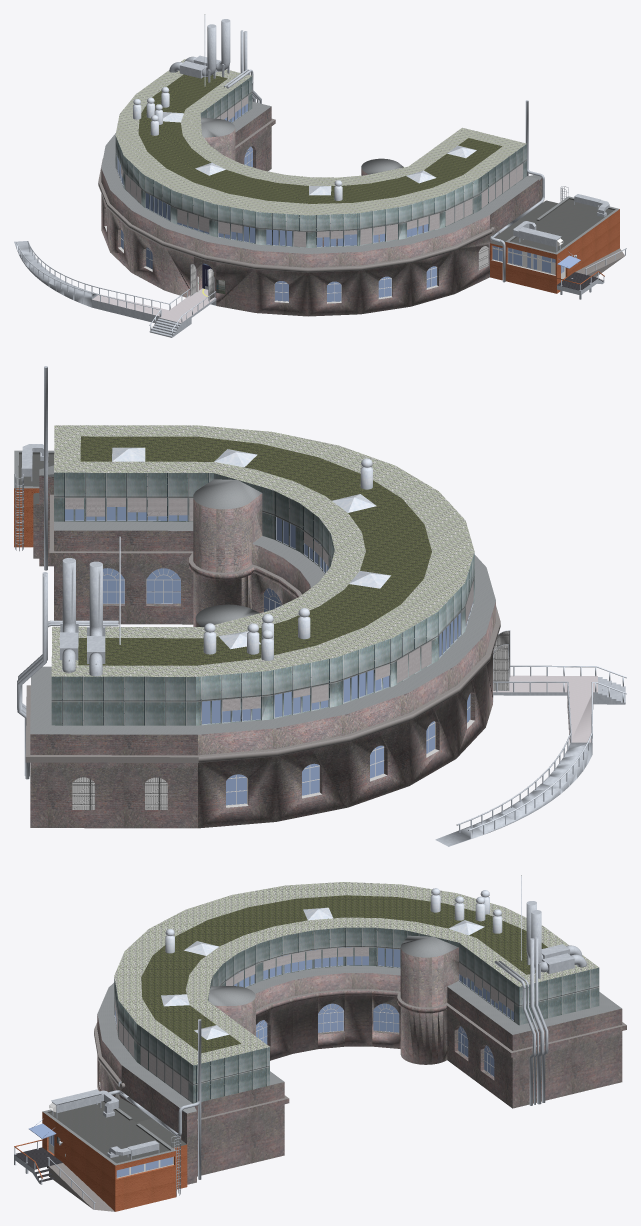
The picture shows the model from 3 angles, top to bottom: view 1: azimuth 30°, elevation 25°; view 2: azimuth 150°, elevation 25°; view 3: azimuth 270°, elevation 25°; orthographic projection. The views are drawn at different scales.
Parts seen in each view (by area): view 1: Sketchup; view 2: Sketchup; view 3: Sketchup.
Boxes of the visible parts, left/top/right/bottom form: Sketchup: left=14, top=14, right=626, bottom=337; Sketchup: left=14, top=366, right=626, bottom=846; Sketchup: left=14, top=875, right=626, bottom=1211.
Bounding box in the file's own units: 61.01 × 20.85 × 58.72.
Materials: 24 (17 with a texture image).
